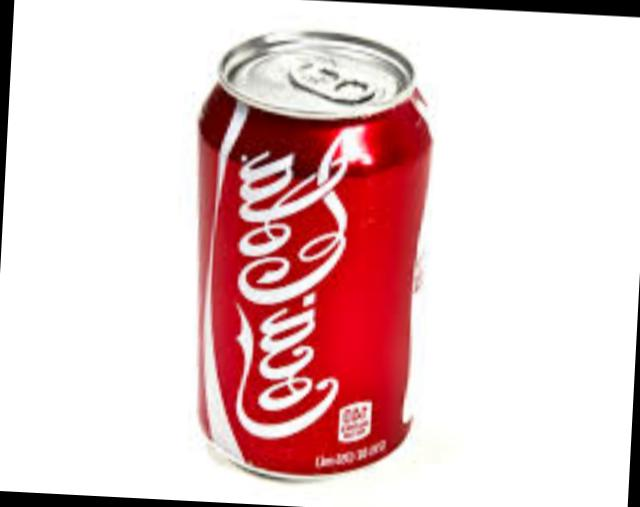metal: (203, 29, 432, 471)
